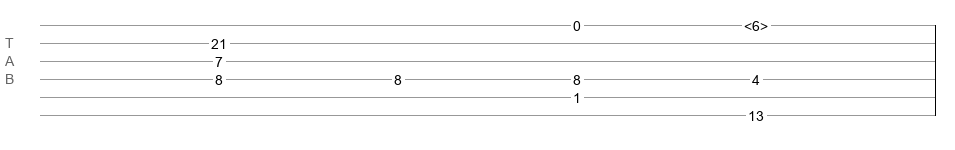0: (573, 18, 581, 28)
1: (573, 90, 581, 100)
13: (748, 108, 764, 118)
21: (211, 36, 227, 46)
4: (752, 72, 760, 82)
7: (215, 54, 223, 64)
8: (215, 72, 223, 82), (394, 72, 402, 82), (573, 72, 581, 82)
harmonic: (744, 18, 768, 28)
